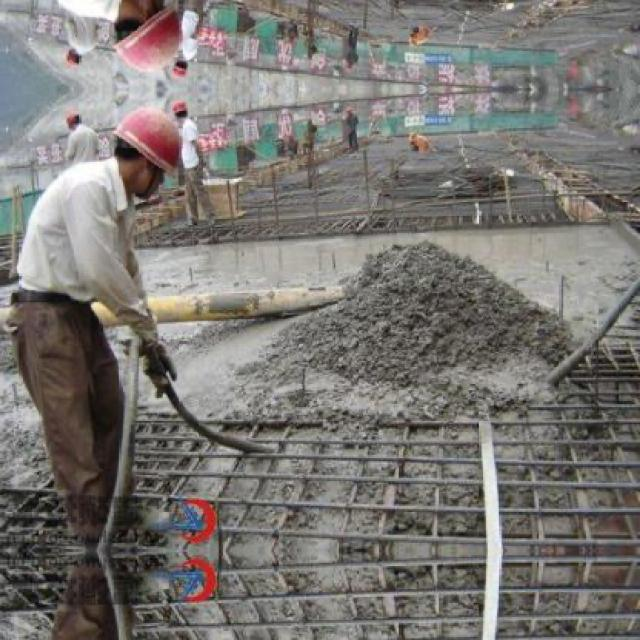con casco: (87, 110, 230, 227), (105, 0, 203, 66), (166, 95, 206, 133)
